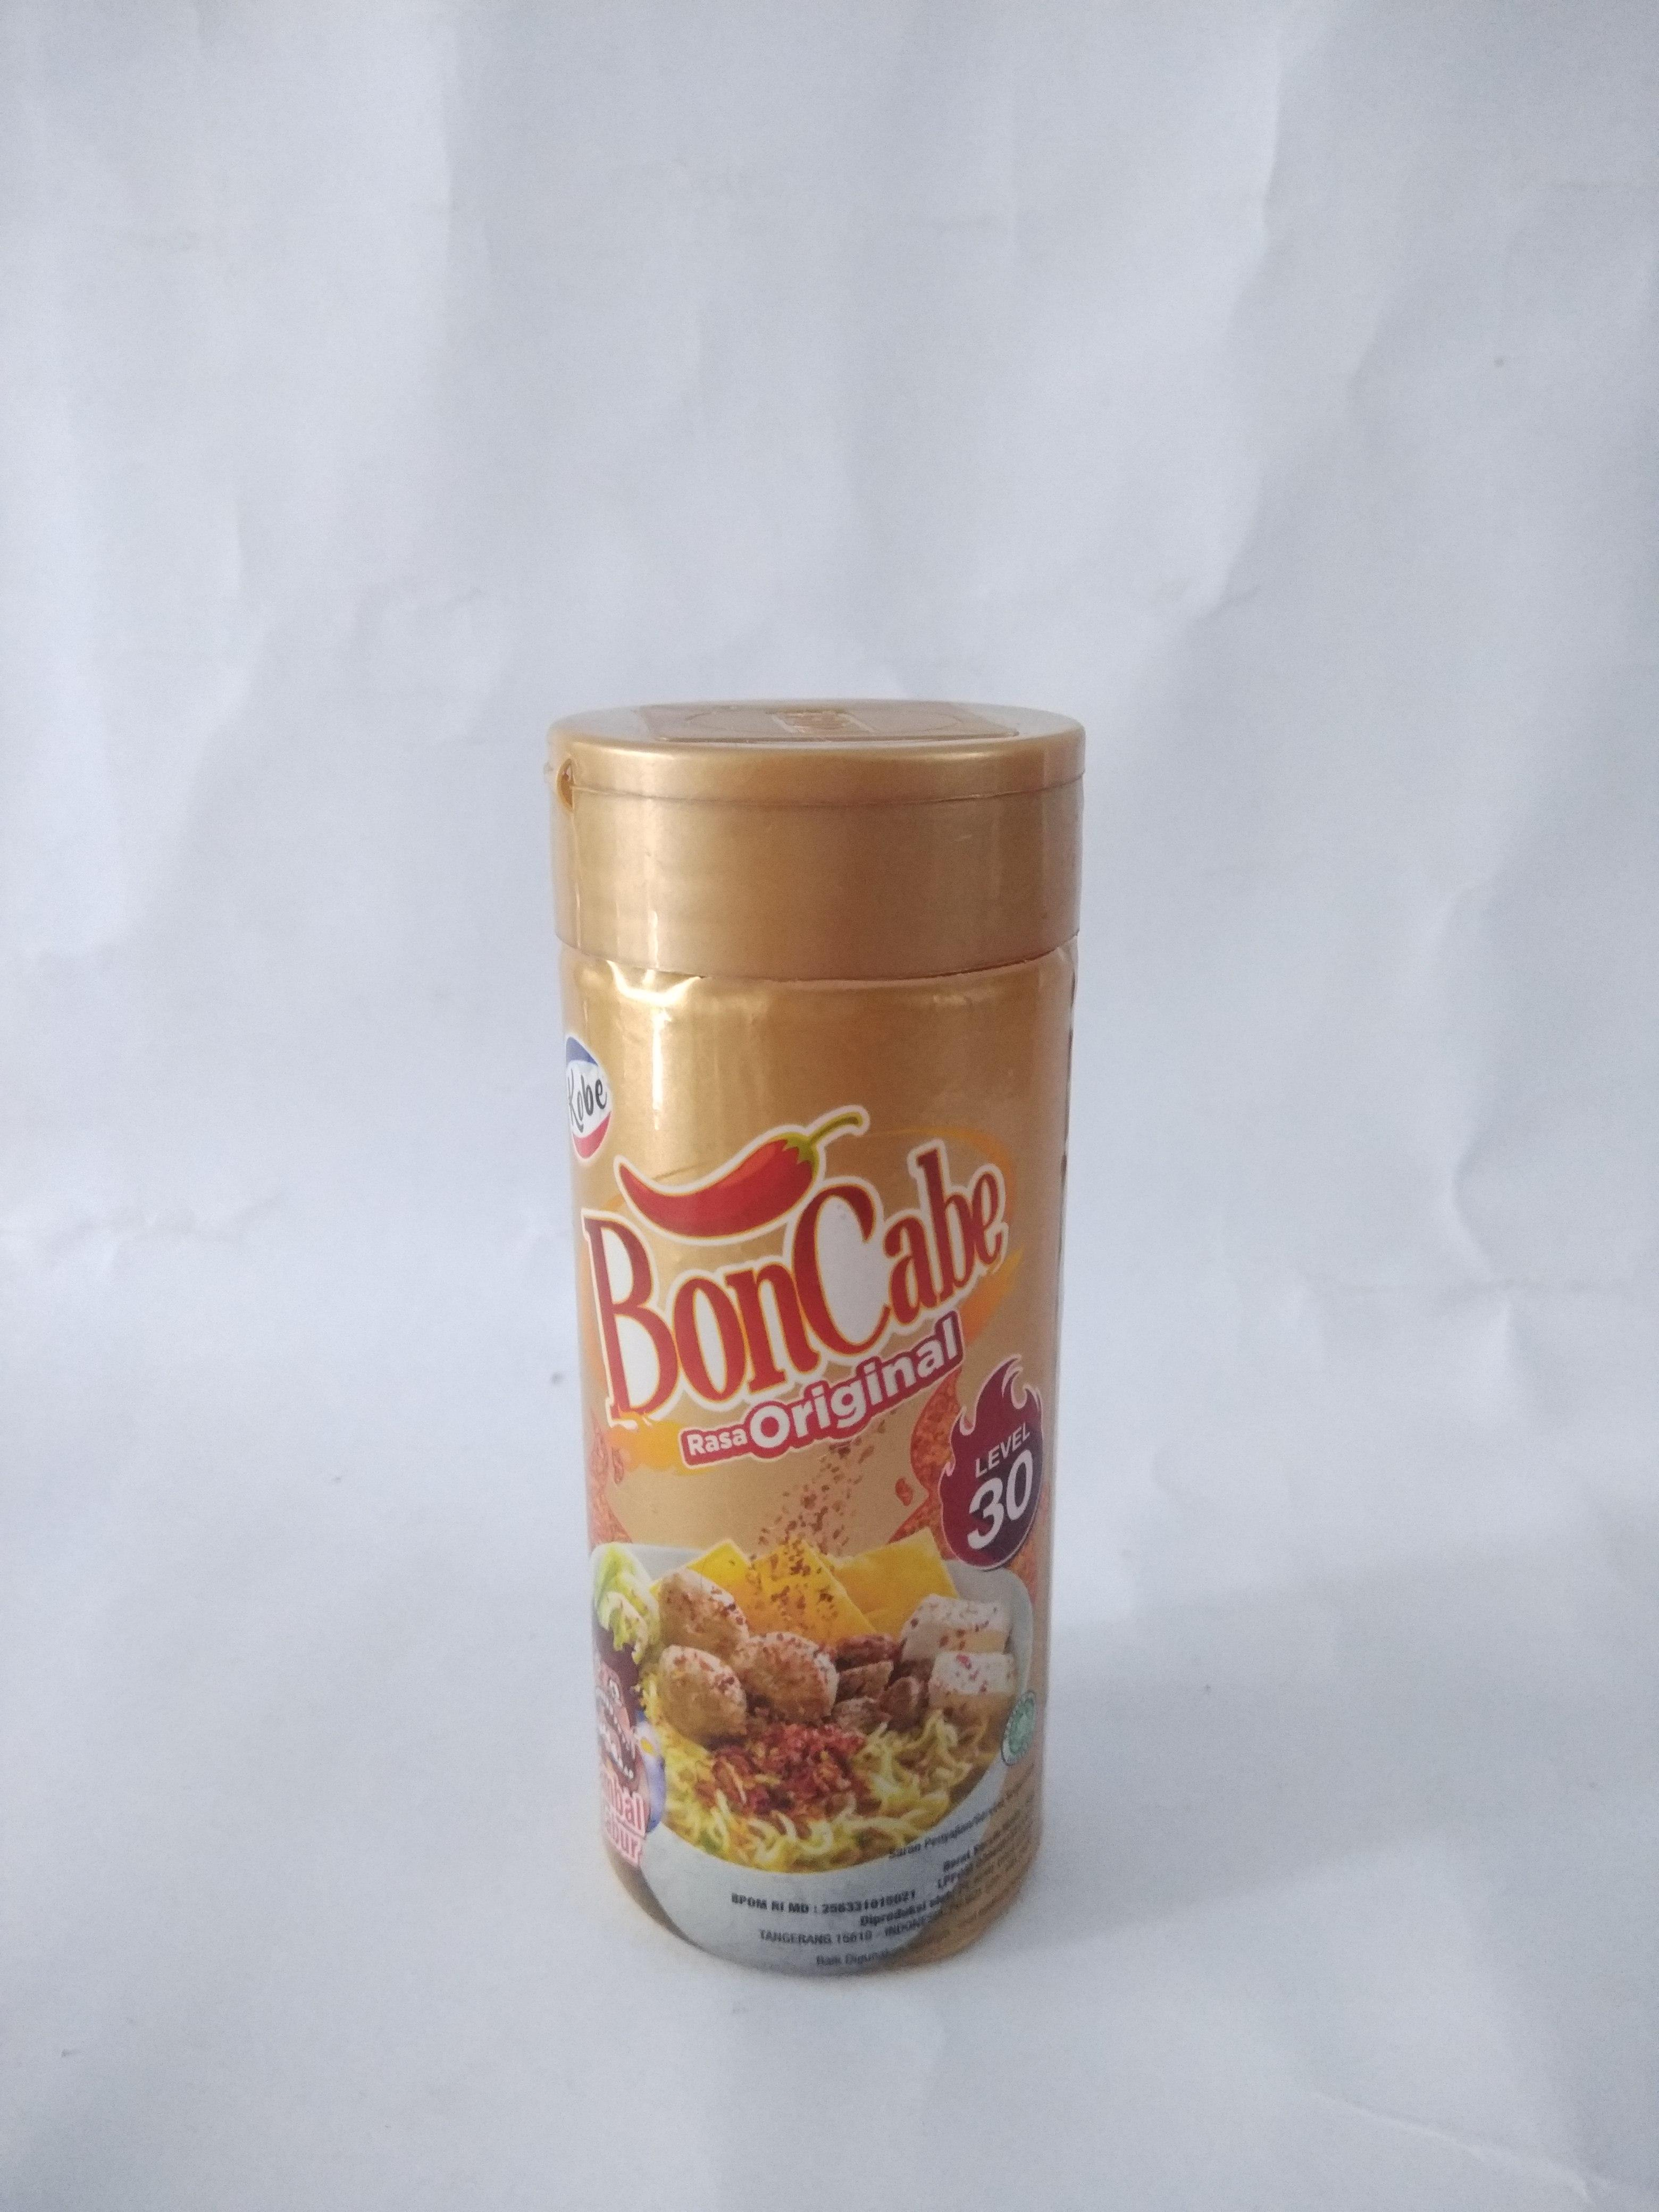HDPE: (547, 698, 1093, 975)
PETE: (561, 977, 1082, 1979)
PP: (575, 967, 1065, 1979)
